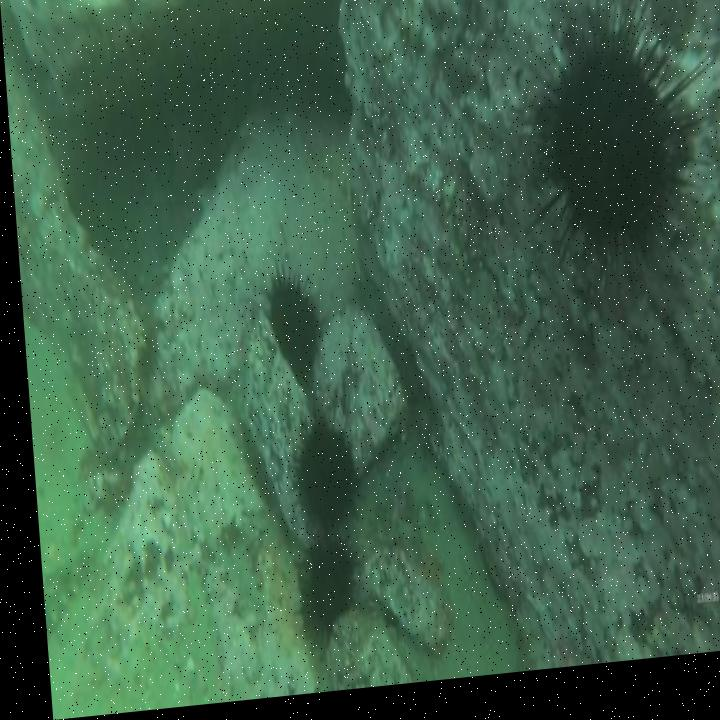echinus: (533, 40, 692, 289), (279, 530, 358, 654), (286, 413, 354, 541), (256, 273, 321, 391)
